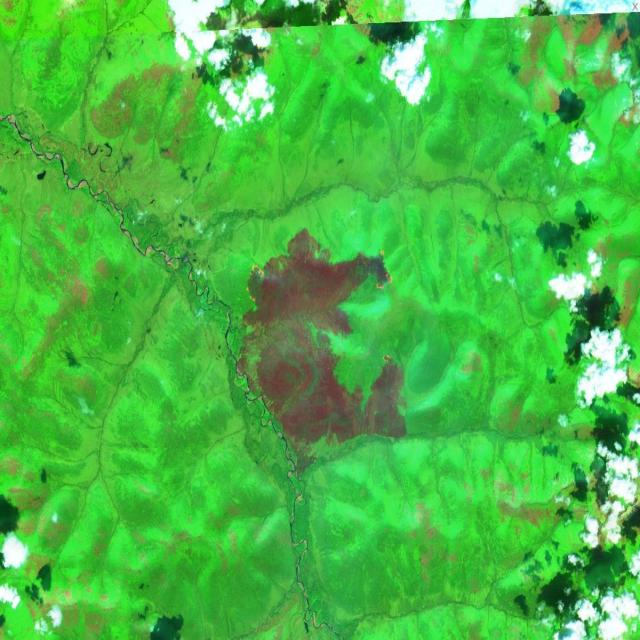fire: (370, 241, 397, 298), (240, 255, 271, 302), (378, 346, 394, 367)
